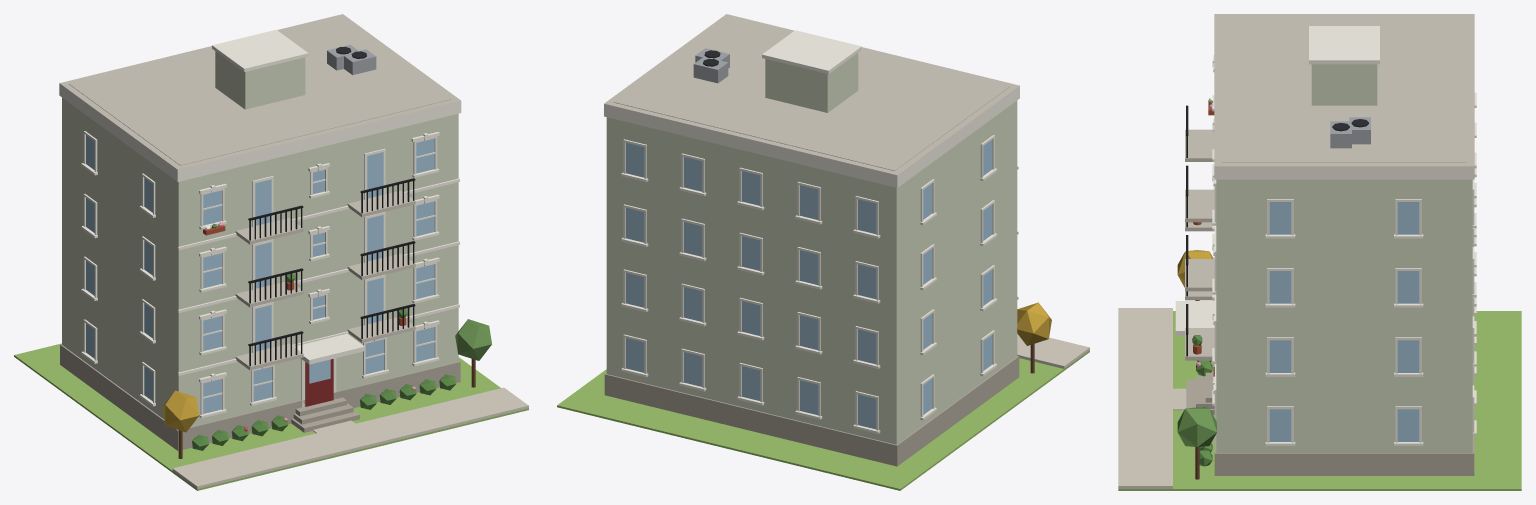
Rendered from Apartman_2_1_Hafif.fbx.
3 renders of one model, left to right at view 1: azimuth 30°, elevation 25°; view 2: azimuth 150°, elevation 25°; view 3: azimuth 270°, elevation 25°, orthographic. The views are drawn at different scales.
Parts seen in each view (by area): view 1: Apartman_2_1_Hafif; view 2: Apartman_2_1_Hafif; view 3: Apartman_2_1_Hafif.
Boxes of the visible parts, x1=… form: Apartman_2_1_Hafif: x1=14, y1=14, x2=528, y2=490; Apartman_2_1_Hafif: x1=557, y1=14, x2=1089, y2=490; Apartman_2_1_Hafif: x1=1118, y1=14, x2=1521, y2=490.
Bounding box in the file's own units: 15.46 × 14.53 × 14.8.
